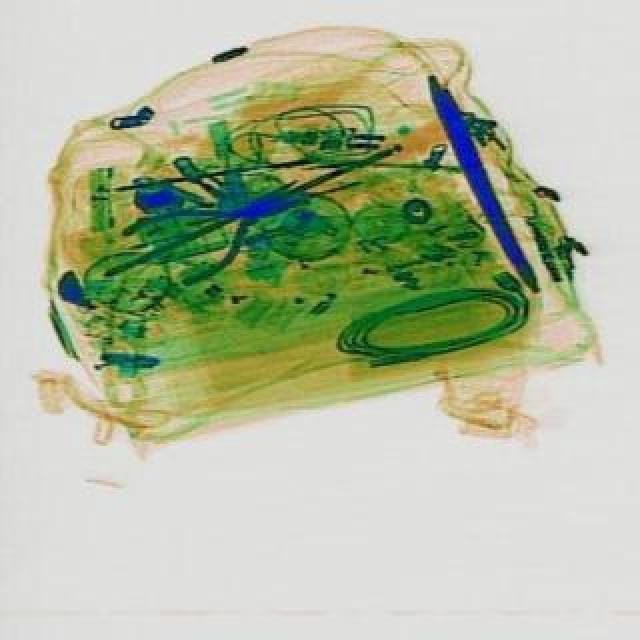wrench: (116, 154, 318, 300)
